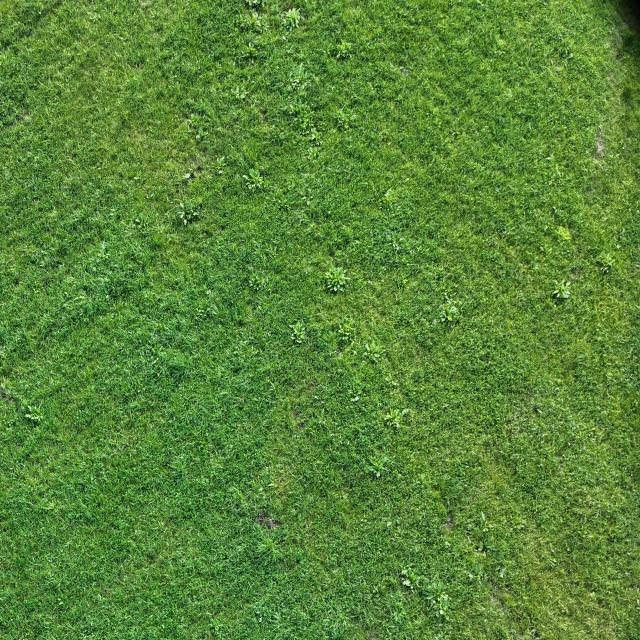rumex: (186, 109, 215, 150), (188, 293, 225, 325), (323, 260, 351, 296), (396, 558, 424, 590), (290, 63, 315, 97), (473, 508, 498, 542), (431, 583, 455, 618), (174, 199, 201, 229), (364, 448, 390, 478), (336, 314, 360, 346), (240, 11, 268, 38), (290, 103, 318, 129), (550, 275, 574, 303), (364, 338, 387, 367), (385, 403, 407, 432), (440, 296, 462, 324), (92, 238, 113, 265), (552, 221, 576, 244), (243, 168, 265, 192), (238, 42, 262, 64), (281, 5, 303, 28), (289, 320, 310, 344), (26, 403, 48, 425), (248, 269, 268, 292), (596, 249, 616, 272), (228, 82, 251, 102), (338, 39, 356, 61), (212, 154, 229, 175)
